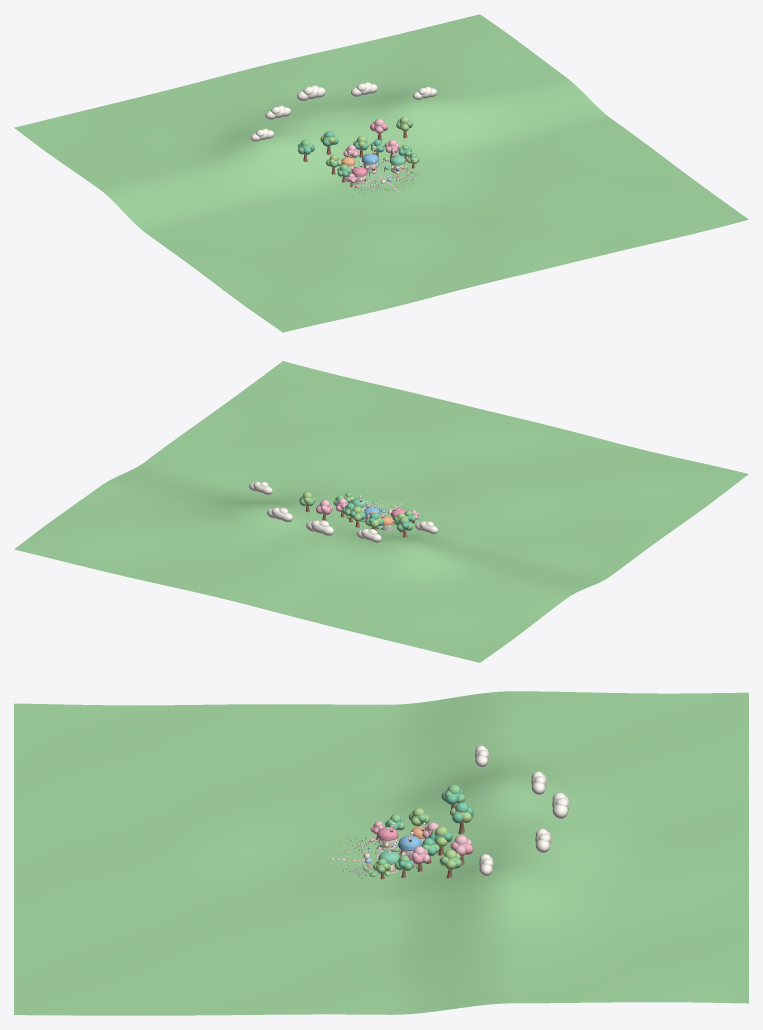
Rendered from village.glb.
3 views of the same model, one above another, from view 1: azimuth 30°, elevation 25°; view 2: azimuth 150°, elevation 25°; view 3: azimuth 270°, elevation 25° (orthographic). The views are drawn at different scales.
Parts seen in each view (by area): view 1: Grass_Hills; view 2: Grass_Hills; view 3: Grass_Hills.
Boxes of the visible parts, left/top/right/bottom form: Grass_Hills: left=14, top=14, right=748, bottom=332; Grass_Hills: left=14, top=361, right=748, bottom=662; Grass_Hills: left=14, top=691, right=748, bottom=1015.
Size of the model in its own units: 84 by 8.21 by 84.
